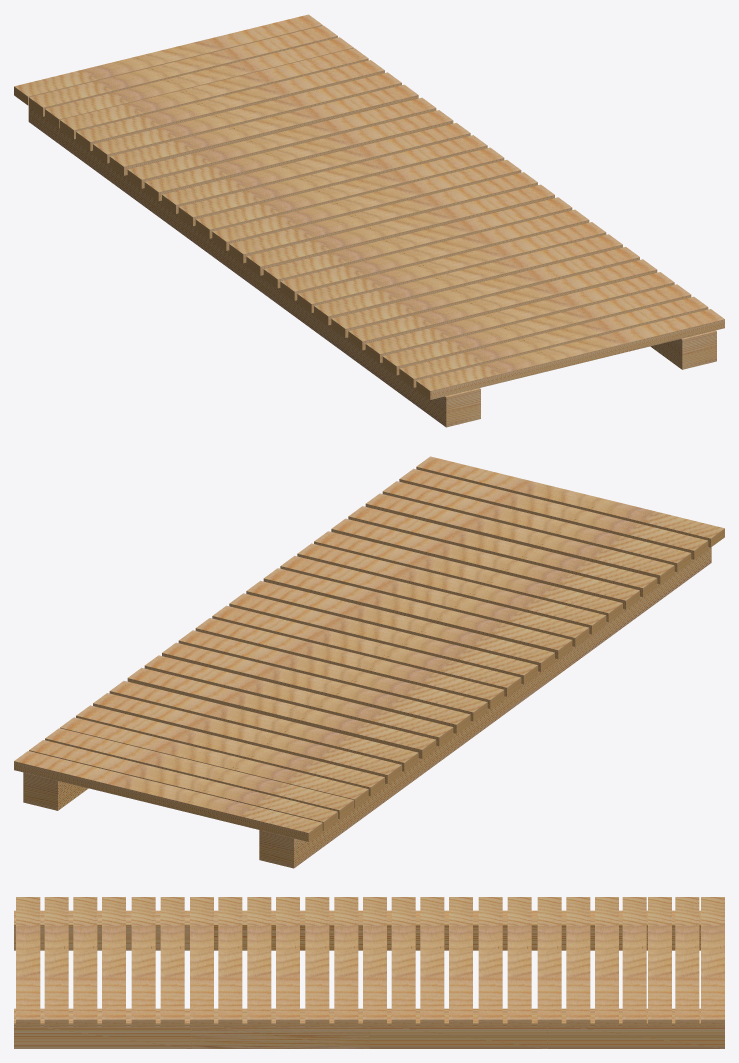
Rendered from Platform_4.fbx.
3 renders of one model, top to bottom at view 1: azimuth 30°, elevation 25°; view 2: azimuth 150°, elevation 25°; view 3: azimuth 270°, elevation 25°, orthographic. The views are drawn at different scales.
Visible parts, largest first — view 1: Cube, Cube.001, Cube.024, Cube.017, Cube.005, Cube.008, Cube.012, Cube.018, Cube.006, Cube.007, Cube.010, Cube.015 (+14 smaller); view 2: Cube, Cube.025, Cube.018, Cube.004, Cube.009, Cube.016, Cube.006, Cube.005, Cube.017, Cube.008, Cube.011, Cube.002 (+14 smaller); view 3: Cube, Cube.001, Cube.002, Cube.003, Cube.005, Cube.006, Cube.007, Cube.008, Cube.010, Cube.011, Cube.014, Cube.015 (+14 smaller).
Part boxes in pixels (bbox=[...]): Cube: bbox=[28, 106, 716, 427]; Cube.001: bbox=[416, 309, 724, 399]; Cube.024: bbox=[109, 84, 418, 175]; Cube.017: bbox=[144, 110, 453, 200]; Cube.005: bbox=[348, 259, 657, 350]; Cube.008: bbox=[246, 184, 554, 275]; Cube.012: bbox=[314, 234, 622, 325]; Cube.018: bbox=[127, 97, 436, 188]; Cube.006: bbox=[331, 247, 639, 337]; Cube.007: bbox=[229, 172, 537, 263]; Cube.010: bbox=[280, 209, 589, 300]; Cube.015: bbox=[178, 135, 487, 225]; Cube: bbox=[23, 547, 711, 868]; Cube.025: bbox=[14, 751, 322, 841]; Cube.018: bbox=[127, 667, 436, 758]; Cube.004: bbox=[365, 493, 674, 584]; Cube.009: bbox=[263, 568, 572, 659]; Cube.016: bbox=[162, 642, 470, 733]; Cube.006: bbox=[331, 518, 639, 609]; Cube.005: bbox=[348, 506, 657, 596]; Cube.017: bbox=[144, 655, 453, 746]; Cube.008: bbox=[246, 581, 554, 671]; Cube.011: bbox=[297, 543, 606, 634]; Cube.002: bbox=[399, 468, 708, 559]; Cube: bbox=[14, 910, 724, 1048]; Cube.001: bbox=[16, 897, 40, 1026]; Cube.002: bbox=[44, 897, 68, 1026]; Cube.003: bbox=[73, 897, 97, 1026]; Cube.005: bbox=[131, 897, 155, 1026]; Cube.006: bbox=[160, 897, 184, 1026]; Cube.007: bbox=[334, 897, 358, 1026]; Cube.008: bbox=[305, 897, 329, 1026]; Cube.010: bbox=[247, 897, 271, 1026]; Cube.011: bbox=[218, 897, 242, 1026]; Cube.014: bbox=[391, 897, 415, 1026]; Cube.015: bbox=[420, 897, 444, 1026].
Bounding box in the file's own units: 326 × 41.25 × 800.
